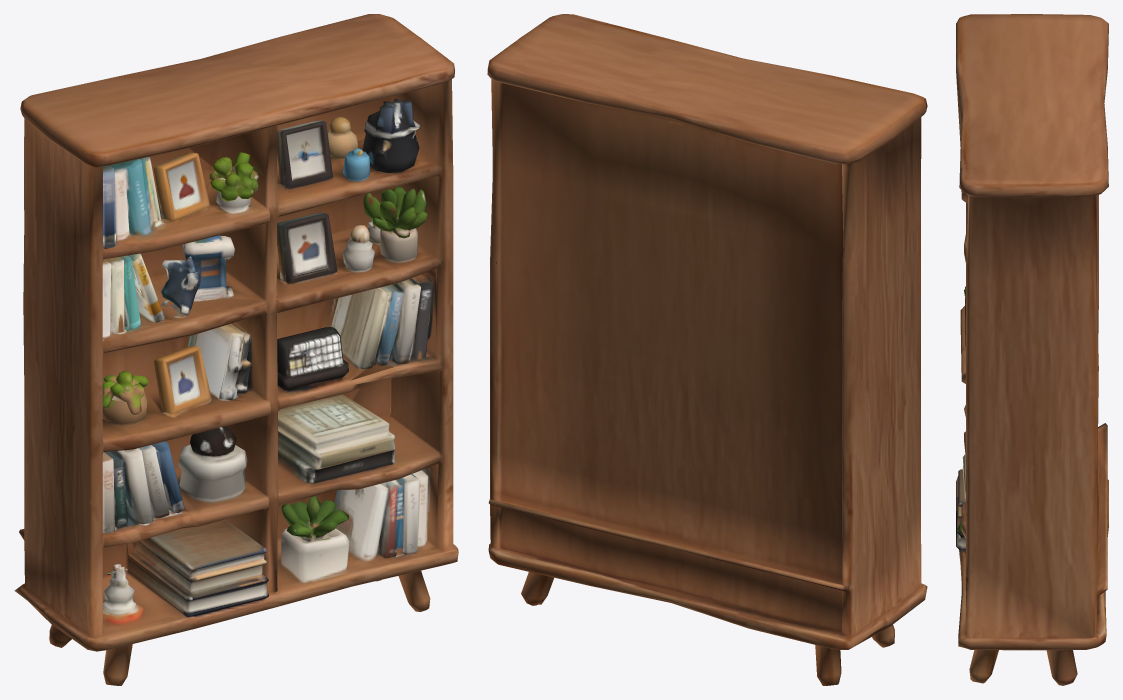
The model's file is bookshelf.glb.
The picture shows the model from 3 angles, left to right: view 1: azimuth 30°, elevation 25°; view 2: azimuth 150°, elevation 25°; view 3: azimuth 270°, elevation 25°; orthographic projection. The views are drawn at different scales.
Visible parts, largest first — view 1: tripo_node_f2a19266-689f-43e7-83af-a97c00633865; view 2: tripo_node_f2a19266-689f-43e7-83af-a97c00633865; view 3: tripo_node_f2a19266-689f-43e7-83af-a97c00633865.
Boxes of the visible parts, bbox=[...] form: tripo_node_f2a19266-689f-43e7-83af-a97c00633865: bbox=[14, 14, 458, 685]; tripo_node_f2a19266-689f-43e7-83af-a97c00633865: bbox=[487, 14, 927, 685]; tripo_node_f2a19266-689f-43e7-83af-a97c00633865: bbox=[956, 14, 1108, 685].
Bounding box in the file's own units: 0.7024 × 0.978 × 0.2622.
Materials: 1 (1 with a texture image).
